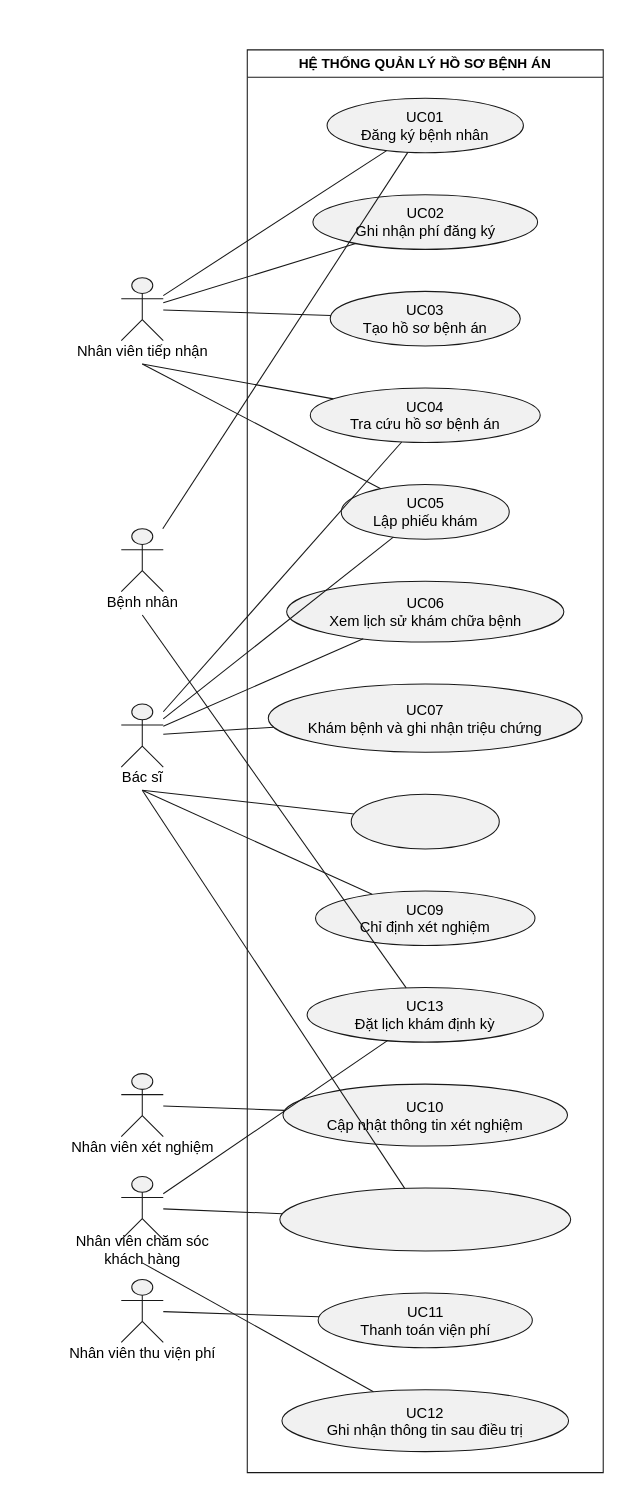
Image size: 622x1491. Some labels were removed from this diagram. The shapes that lost their labels are listed below. From the top down, each one's centre as x and y in pixels, then its label:
At (x=424, y=821): "UC08 Lập toa thuốc".
At (x=425, y=1219): "UC14 Ghi nhận kết quả khám định kỳ".
